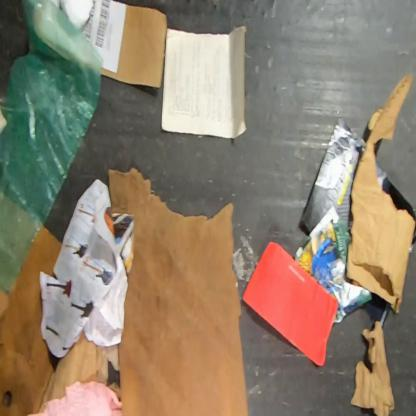cardboard: (106, 165, 250, 415), (242, 240, 340, 368), (0, 225, 63, 415), (68, 0, 169, 90)
soft_plastic: (0, 0, 106, 296), (38, 332, 104, 414)
